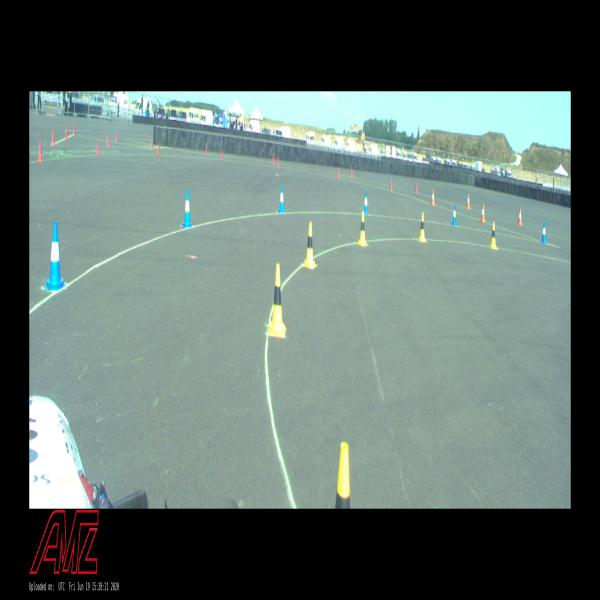blue_cone: (43, 221, 66, 291), (182, 189, 192, 228), (278, 185, 285, 213), (541, 221, 547, 243), (452, 204, 456, 226), (365, 191, 368, 215)
orange_cone: (481, 204, 486, 222), (518, 208, 522, 225), (431, 189, 435, 206), (467, 194, 470, 209)
yellow_cone: (269, 263, 285, 338), (304, 222, 316, 268), (358, 211, 367, 246), (418, 212, 426, 242), (490, 222, 497, 248)
